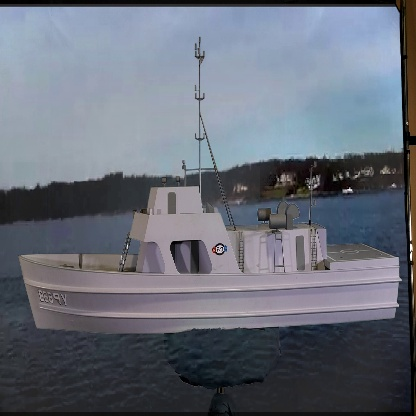YP689: (18, 33, 402, 335)
